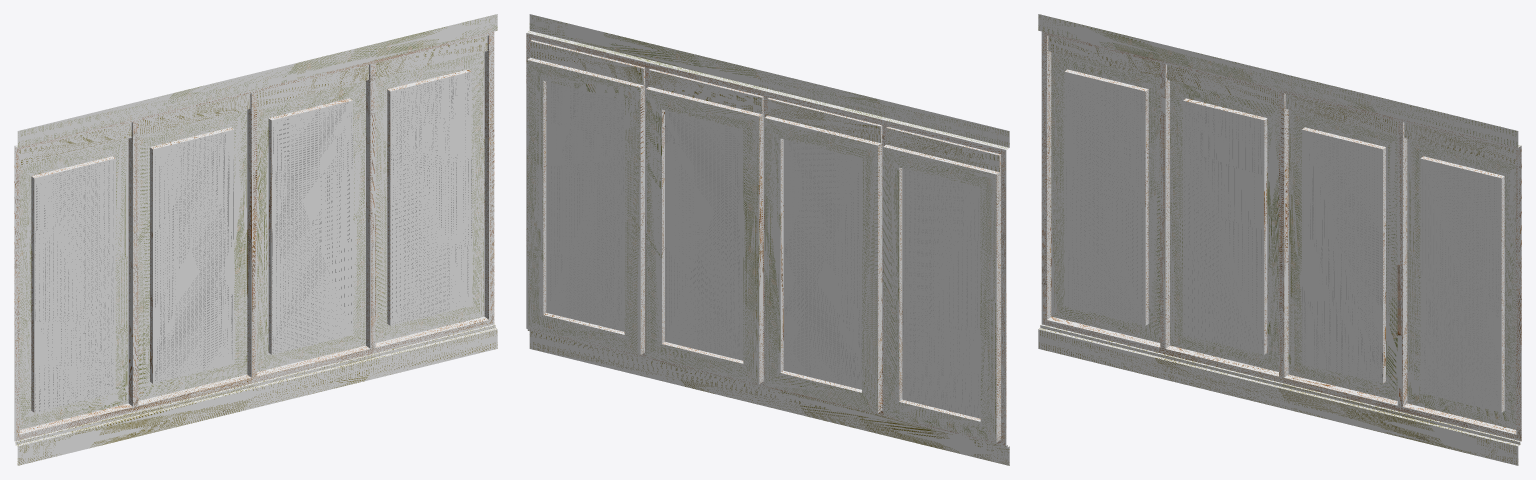
Rendered from wall3.glb.
3 renders of one model, left to right at view 1: azimuth 30°, elevation 25°; view 2: azimuth 150°, elevation 25°; view 3: azimuth 330°, elevation 25°, orthographic.
Visible parts, largest first — view 1: SketchUp.007, SketchUp.010, SketchUp.002, SketchUp.006, SketchUp.013, SketchUp, SketchUp.015, SketchUp.012, SketchUp.019, SketchUp.008, SketchUp.017, SketchUp.018 (+8 smaller); view 2: SketchUp.007, SketchUp.002, SketchUp.006, SketchUp.010, SketchUp.012, SketchUp.015, SketchUp.008, SketchUp.019, SketchUp.017, SketchUp.013, SketchUp, SketchUp.018 (+8 smaller); view 3: SketchUp.002, SketchUp.006, SketchUp.007, SketchUp.010, SketchUp.013, SketchUp, SketchUp.012, SketchUp.015, SketchUp.008, SketchUp.019, SketchUp.017, SketchUp.018 (+8 smaller).
Boxes of the visible parts, x1=… form: SketchUp.007: x1=390, y1=71, x2=471, y2=325; SketchUp.010: x1=271, y1=100, x2=352, y2=354; SketchUp.002: x1=153, y1=129, x2=234, y2=383; SketchUp.006: x1=34, y1=158, x2=115, y2=412; SketchUp.013: x1=15, y1=324, x2=497, y2=465; SketchUp: x1=19, y1=35, x2=488, y2=434; SketchUp.015: x1=19, y1=138, x2=128, y2=429; SketchUp.012: x1=375, y1=51, x2=484, y2=342; SketchUp.019: x1=138, y1=109, x2=247, y2=400; SketchUp.008: x1=257, y1=80, x2=365, y2=371; SketchUp.017: x1=15, y1=14, x2=497, y2=147; SketchUp.018: x1=14, y1=31, x2=494, y2=441; SketchUp.007: x1=546, y1=81, x2=624, y2=331; SketchUp.002: x1=783, y1=139, x2=861, y2=389; SketchUp.006: x1=902, y1=168, x2=980, y2=418; SketchUp.010: x1=665, y1=110, x2=743, y2=360; SketchUp.012: x1=527, y1=60, x2=640, y2=355; SketchUp.015: x1=883, y1=147, x2=996, y2=442; SketchUp.008: x1=646, y1=89, x2=759, y2=384; SketchUp.019: x1=764, y1=118, x2=877, y2=413; SketchUp.017: x1=527, y1=14, x2=1009, y2=149; SketchUp.013: x1=527, y1=329, x2=1009, y2=465; SketchUp: x1=527, y1=40, x2=1000, y2=441; SketchUp.018: x1=526, y1=33, x2=1006, y2=445; SketchUp.002: x1=1183, y1=100, x2=1264, y2=354; SketchUp.006: x1=1064, y1=71, x2=1145, y2=325; SketchUp.007: x1=1420, y1=158, x2=1501, y2=412; SketchUp.010: x1=1301, y1=129, x2=1382, y2=383; SketchUp.013: x1=1038, y1=324, x2=1520, y2=465; SketchUp: x1=1047, y1=35, x2=1516, y2=434; SketchUp.012: x1=1407, y1=138, x2=1516, y2=429; SketchUp.015: x1=1051, y1=51, x2=1160, y2=342; SketchUp.008: x1=1288, y1=109, x2=1397, y2=400; SketchUp.019: x1=1170, y1=80, x2=1278, y2=371; SketchUp.017: x1=1038, y1=14, x2=1520, y2=147; SketchUp.018: x1=1041, y1=31, x2=1521, y2=441.
Size of the model in its own units: 4.57 by 3.05 by 0.127.
Materials: 5 (4 with a texture image).
